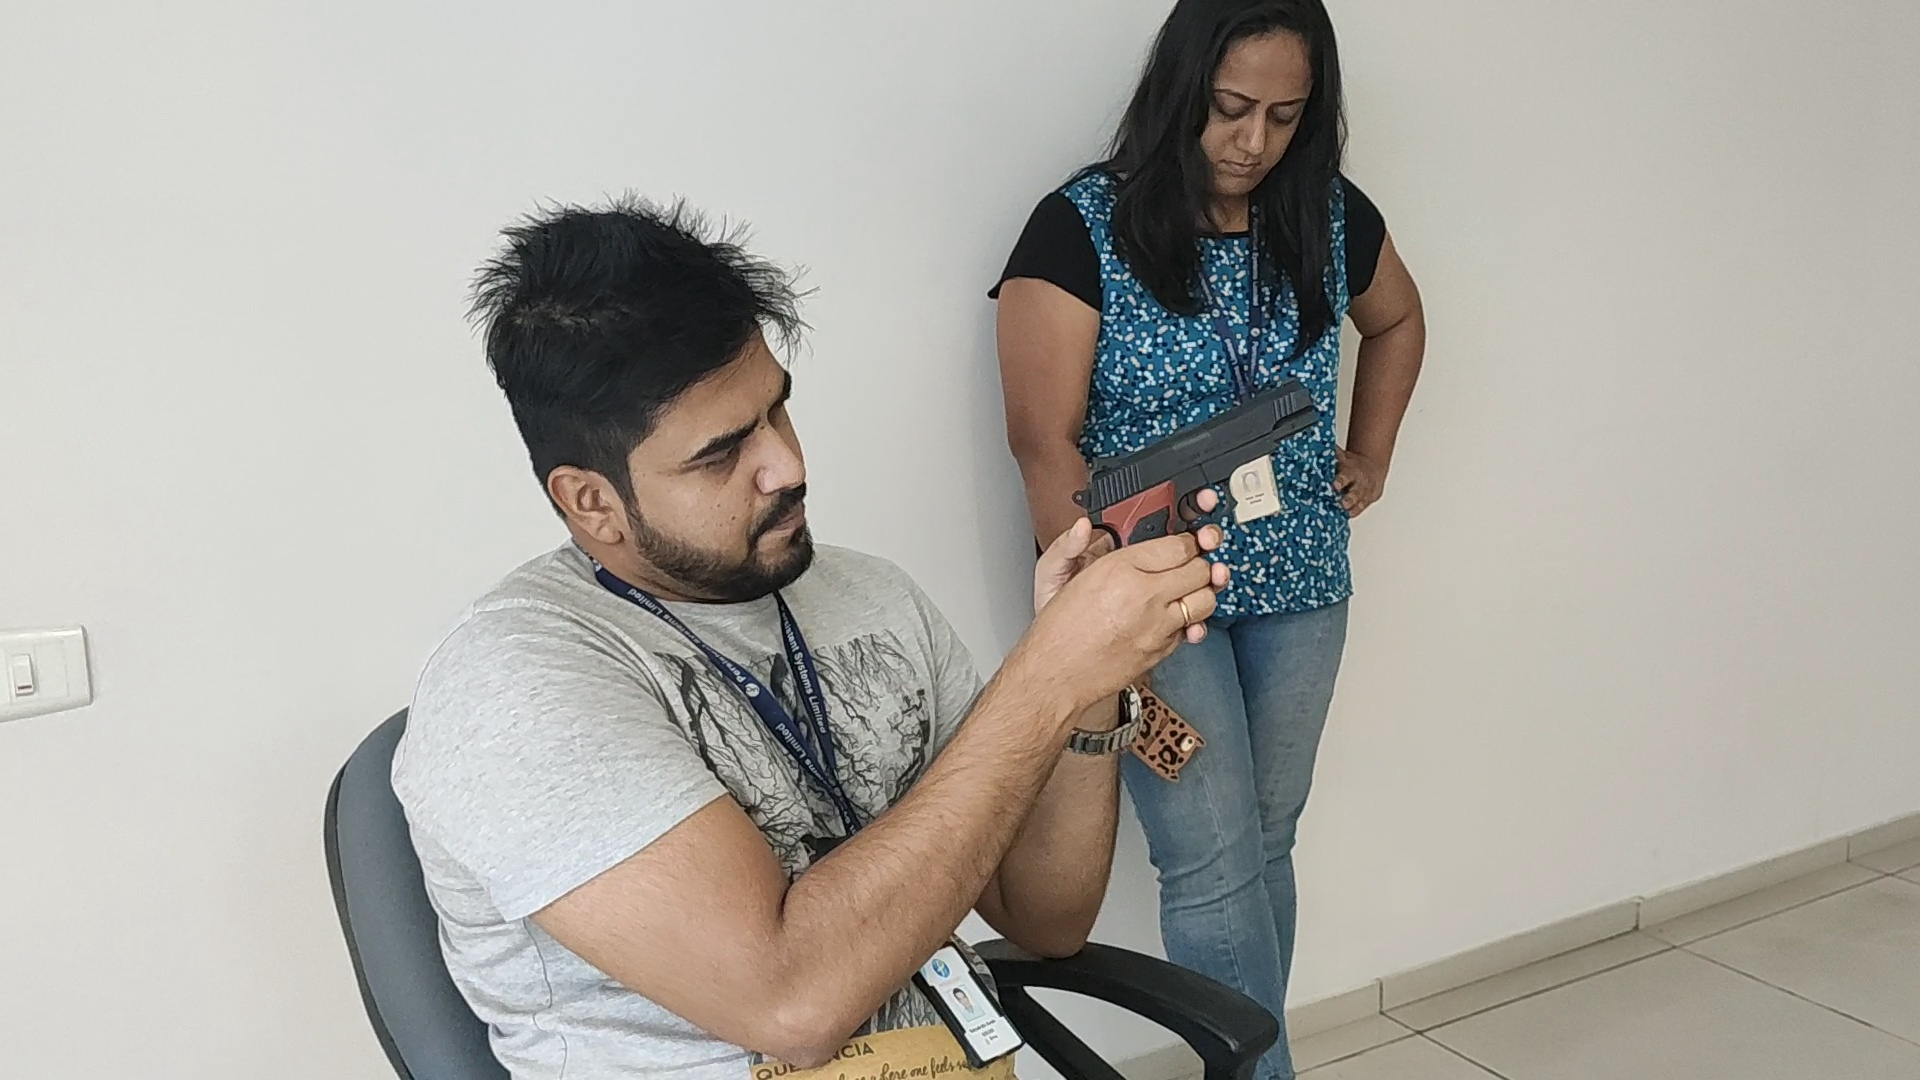gun: (1071, 380, 1320, 516)
